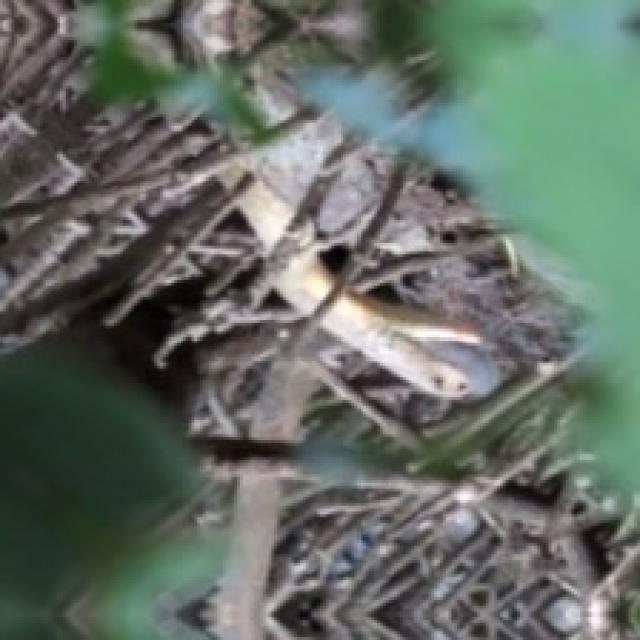king cobra: (322, 292, 500, 401), (270, 250, 334, 314)
